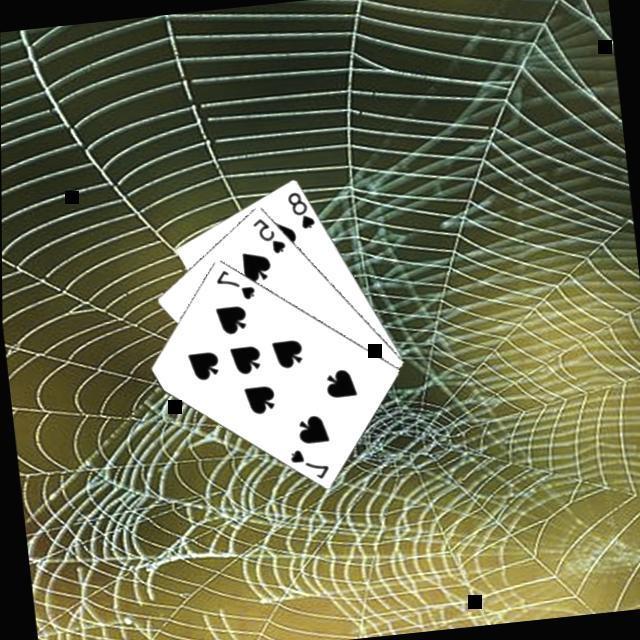5S: (250, 213, 290, 259)
7S: (285, 444, 333, 486), (212, 266, 258, 308)
8S: (284, 188, 318, 235)
